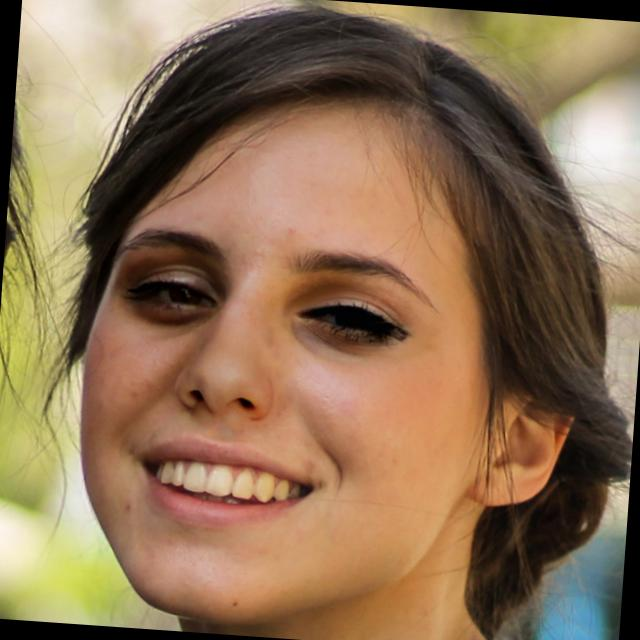face: (44, 26, 621, 640)
